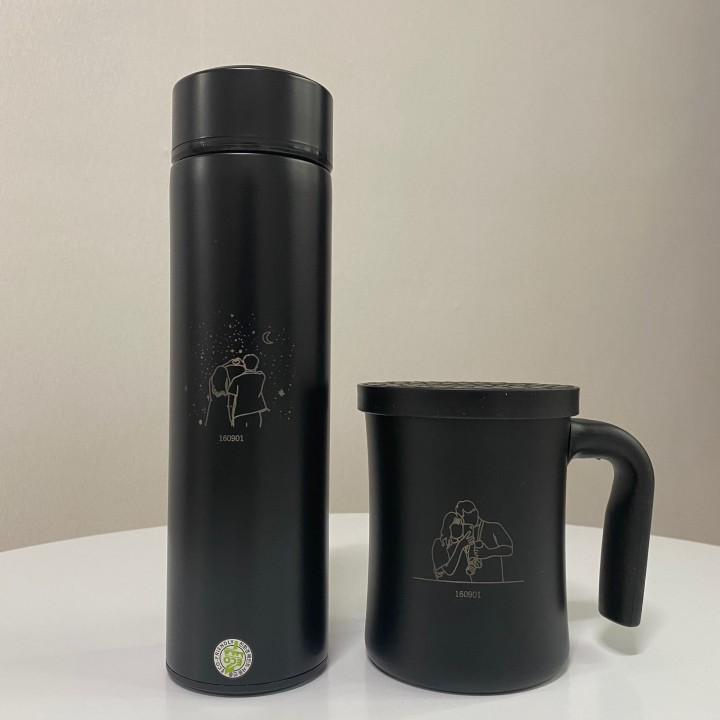Tumbler: (158, 54, 336, 700)
